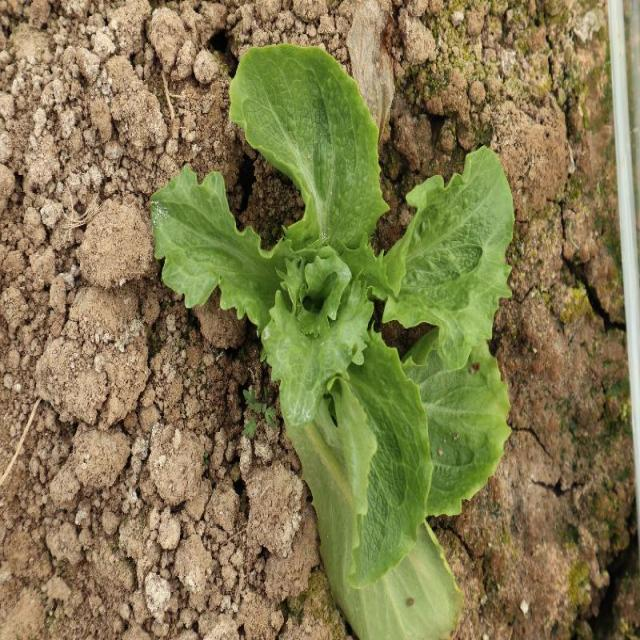crop: (148, 37, 516, 640)
